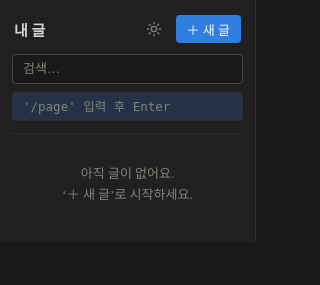
Scenario: PostList — 새 글 생성 실패 (FR-007) › 등록 실패 시 안내 문구가 표시된다
expect the text "아직 글이 없어요.‘＋ 새 글’로 시작하세요." is shown: met, box [62,166,193,202]
Click the button "＋ 새 글" at (208, 29), box [176,15,241,43]
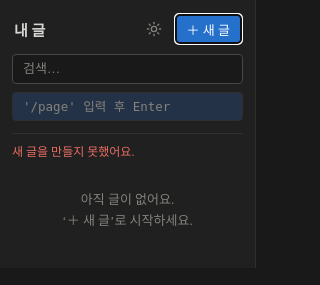
expect the text "새 글을 만들지 못했어요." is shown: met, box [12,145,134,159]
